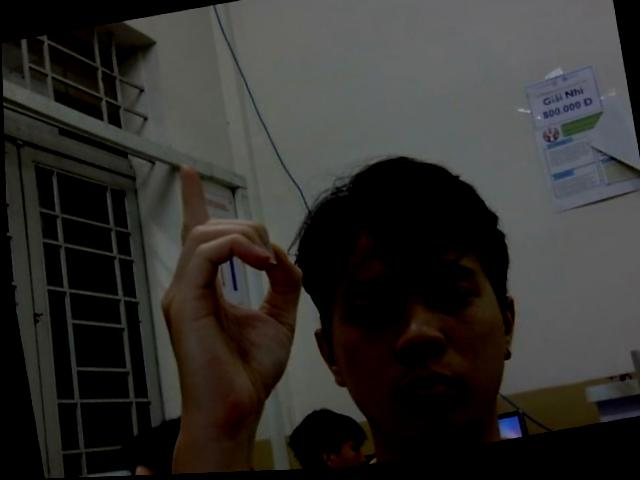D: (135, 148, 320, 432)
